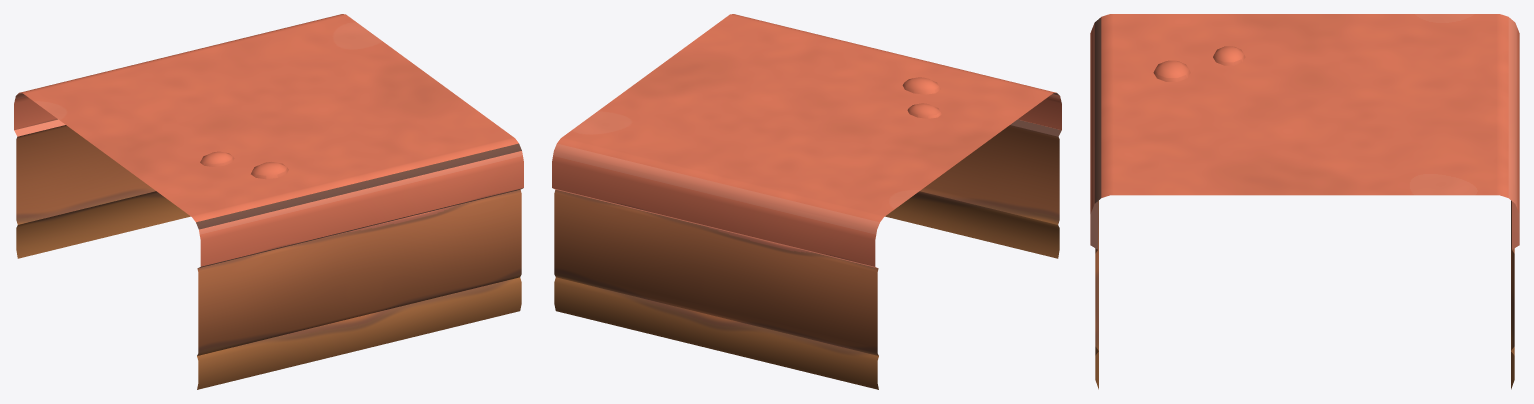
Rendered from wall_straight_low.glb.
The picture shows the model from 3 angles, left to right: view 1: azimuth 30°, elevation 25°; view 2: azimuth 150°, elevation 25°; view 3: azimuth 270°, elevation 25°; orthographic projection. The views are drawn at different scales.
Visible parts, largest first — view 1: wall_straight_low; view 2: wall_straight_low; view 3: wall_straight_low.
Part boxes in pixels (x1,y1,x2,y2): wall_straight_low: [14, 14, 523, 389]; wall_straight_low: [552, 14, 1061, 389]; wall_straight_low: [1090, 14, 1519, 389].
Bounding box in the file's own units: 1 × 0.5225 × 1.
2 materials, 2 textured.
